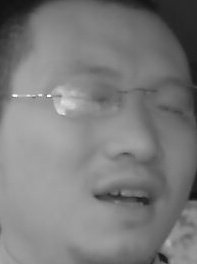glass: (52, 77, 125, 119)
mouth: (90, 174, 161, 219)
